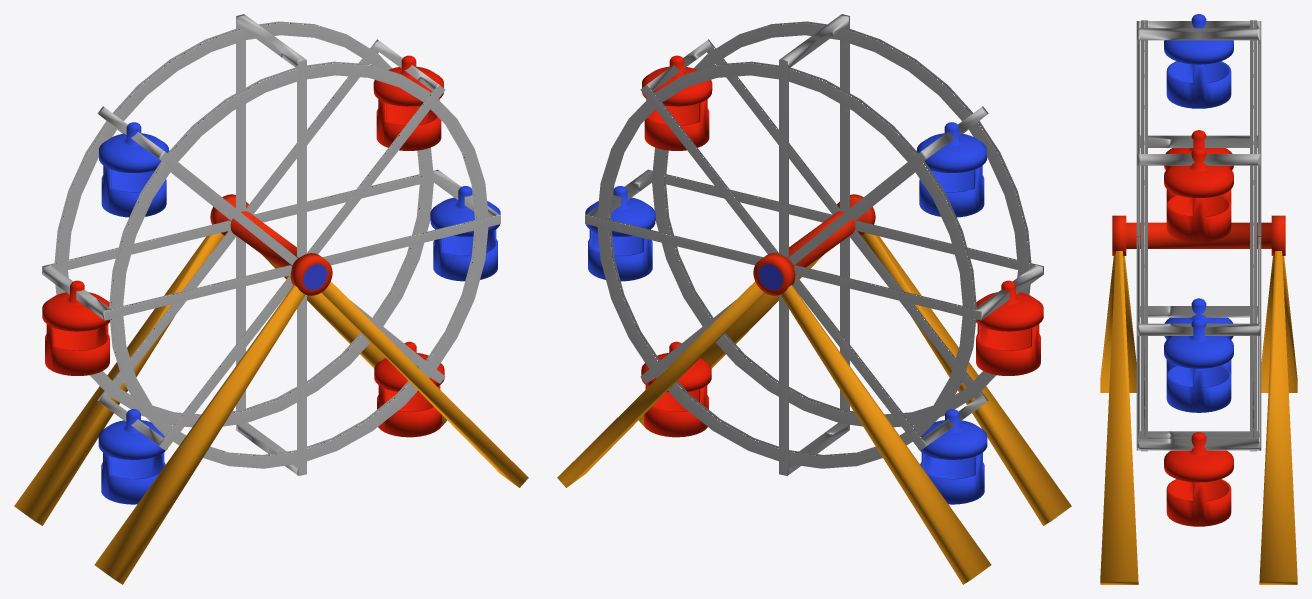
The model's file is roda gigante.fbx.
The picture shows the model from 3 angles, left to right: view 1: azimuth 30°, elevation 25°; view 2: azimuth 150°, elevation 25°; view 3: azimuth 270°, elevation 25°; orthographic projection.
Parts seen in each view (by area): view 1: rg aro, rg perna, rg cabine 2, rg cabine 5, rg cabine 6, rg cabine 3, rg cabine 1, rg cabine 4, rg parafuso; view 2: rg aro, rg perna, rg cabine 2, rg cabine 5, rg cabine 6, rg cabine 3, rg cabine 1, rg cabine 4, rg parafuso; view 3: rg perna, rg aro, rg cabine 3, rg cabine 4, rg cabine 1, rg cabine 6, rg parafuso, rg cabine 5, rg cabine 2.
Boxes of the visible parts, left/top/right/bottom form: rg aro: left=42, top=14, right=500, bottom=475; rg perna: left=14, top=233, right=528, bottom=584; rg cabine 2: left=42, top=280, right=109, bottom=375; rg cabine 5: left=98, top=409, right=167, bottom=504; rg cabine 6: left=99, top=122, right=169, bottom=217; rg cabine 3: left=373, top=55, right=443, bottom=150; rg cabine 1: left=430, top=186, right=500, bottom=281; rg cabine 4: left=374, top=341, right=444, bottom=437; rg parafuso: left=210, top=194, right=332, bottom=295; rg aro: left=585, top=14, right=1043, bottom=475; rg perna: left=557, top=233, right=1071, bottom=584; rg cabine 2: left=976, top=280, right=1043, bottom=375; rg cabine 5: left=918, top=409, right=987, bottom=504; rg cabine 6: left=916, top=122, right=986, bottom=217; rg cabine 3: left=642, top=55, right=712, bottom=150; rg cabine 1: left=585, top=186, right=655, bottom=281; rg cabine 4: left=641, top=341, right=711, bottom=437; rg parafuso: left=753, top=194, right=875, bottom=295; rg perna: left=1100, top=251, right=1297, bottom=584; rg aro: left=1136, top=20, right=1261, bottom=451; rg cabine 3: left=1164, top=147, right=1233, bottom=242; rg cabine 4: left=1164, top=432, right=1233, bottom=526; rg cabine 1: left=1164, top=318, right=1233, bottom=412; rg cabine 6: left=1164, top=14, right=1233, bottom=108; rg parafuso: left=1112, top=215, right=1285, bottom=255; rg cabine 5: left=1164, top=298, right=1233, bottom=374; rg cabine 2: left=1164, top=130, right=1233, bottom=203.
Size of the model in its own units: 7711 by 7581 by 2959.
